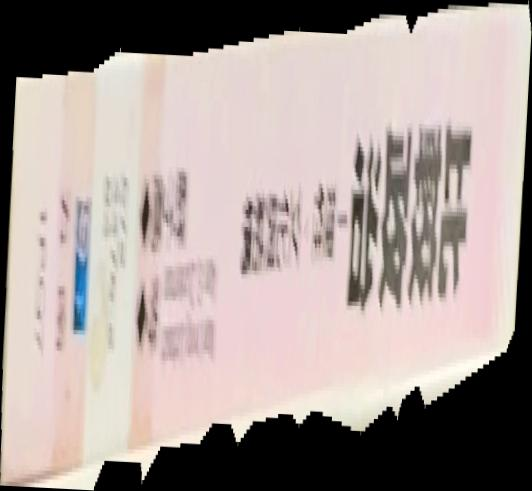flat: (1, 1, 532, 491)
